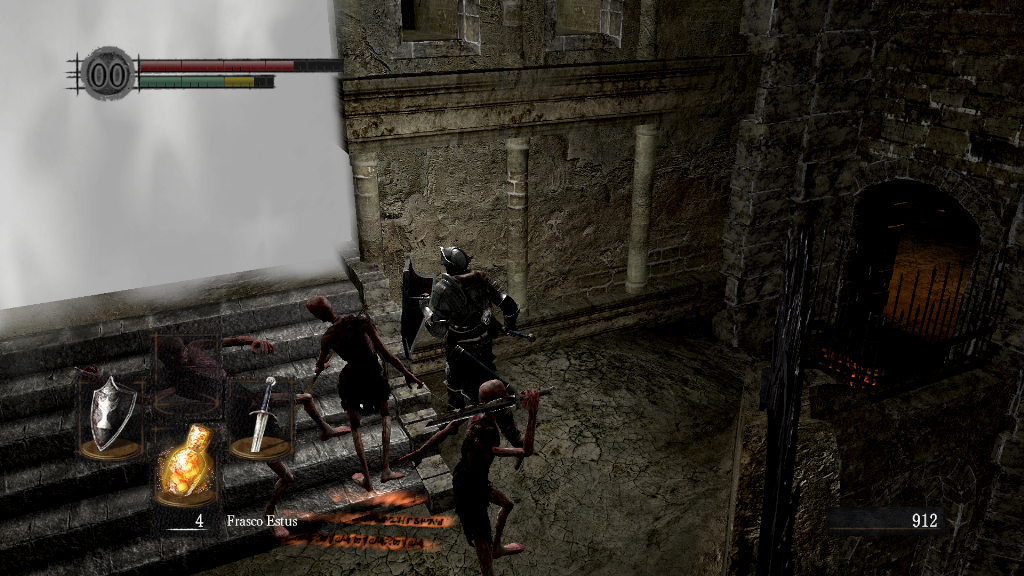health: (138, 58, 343, 71)
hollow: (143, 333, 347, 539), (307, 294, 426, 491), (433, 378, 537, 574)
humanity: (80, 45, 136, 102)
player: (400, 244, 538, 428)
souls: (825, 506, 945, 536)
stamina: (138, 74, 274, 88)
